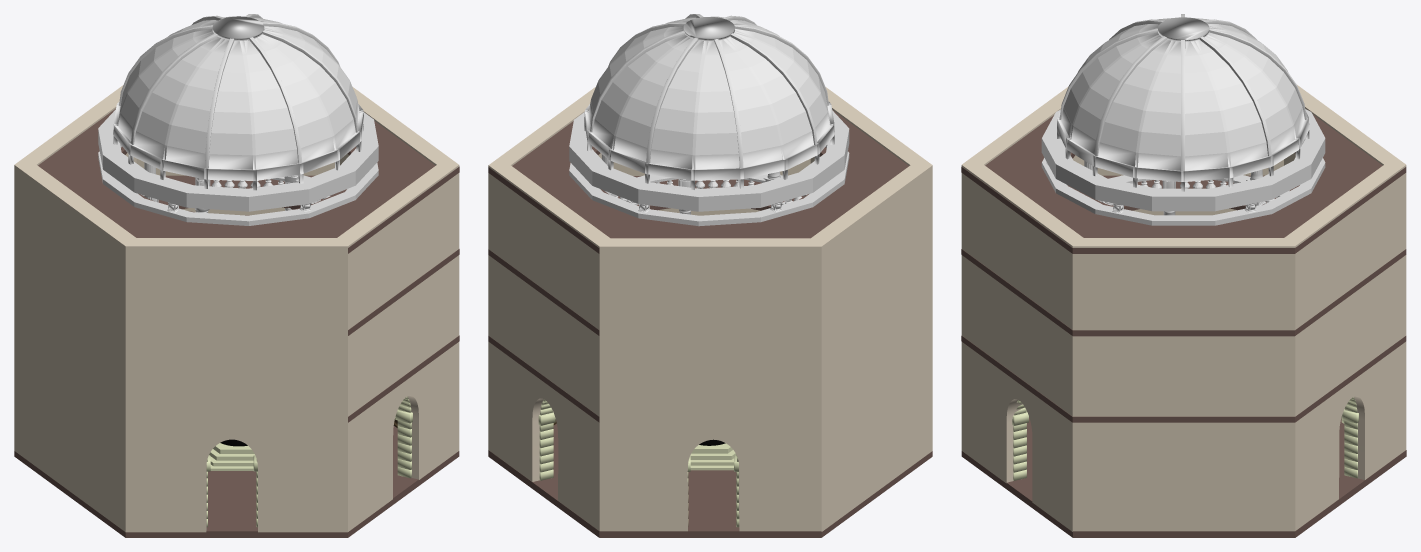
File: LOBBY.fbx
3 renders of one model, left to right at view 1: azimuth 30°, elevation 25°; view 2: azimuth 150°, elevation 25°; view 3: azimuth 270°, elevation 25°, orthographic.
Visible parts, largest first — view 1: Base_Walls, Dome, Floors, Cylinder.029, Floor_, Cylinder.030, Cylinder.031, Dome.001, Dome.021, Dome.020, Dome.023, Dome.024 (+1 smaller); view 2: Base_Walls, Dome, Floors, Cylinder.029, Floor_, Cylinder.030, Cylinder.031, Dome.001, Dome.021, Dome.018, Dome.022, Dome.025 (+1 smaller); view 3: Base_Walls, Dome, Floors, Cylinder.029, Floor_, Cylinder.030, Dome.001, Dome.023, Dome.022, Dome.020, Dome.018, Dome.019.
Boxes of the visible parts, left/top/right/bottom form: Base_Walls: left=14, top=85, right=459, bottom=532; Dome: left=113, top=16, right=363, bottom=190; Floors: left=38, top=108, right=459, bottom=422; Cylinder.029: left=98, top=109, right=378, bottom=211; Floor_: left=14, top=426, right=459, bottom=537; Cylinder.030: left=98, top=144, right=378, bottom=225; Cylinder.031: left=209, top=443, right=254, bottom=470; Dome.001: left=212, top=16, right=264, bottom=40; Dome.021: left=131, top=33, right=217, bottom=144; Dome.020: left=249, top=37, right=301, bottom=163; Dome.023: left=262, top=30, right=358, bottom=132; Dome.024: left=205, top=38, right=234, bottom=168; Base_Walls: left=488, top=87, right=932, bottom=531; Dome: left=584, top=16, right=834, bottom=189; Floors: left=488, top=110, right=908, bottom=422; Cylinder.029: left=569, top=110, right=849, bottom=211; Floor_: left=488, top=423, right=932, bottom=537; Cylinder.030: left=569, top=144, right=849, bottom=226; Cylinder.031: left=690, top=443, right=736, bottom=470; Dome.001: left=683, top=17, right=734, bottom=41; Dome.021: left=730, top=33, right=817, bottom=144; Dome.018: left=646, top=38, right=698, bottom=163; Dome.022: left=590, top=30, right=684, bottom=132; Dome.025: left=714, top=39, right=743, bottom=168; Base_Walls: left=961, top=85, right=1406, bottom=531; Dome: left=1057, top=17, right=1309, bottom=191; Floors: left=961, top=114, right=1406, bottom=422; Cylinder.029: left=1041, top=109, right=1325, bottom=211; Floor_: left=961, top=417, right=1406, bottom=537; Cylinder.030: left=1041, top=158, right=1325, bottom=225; Dome.001: left=1157, top=17, right=1209, bottom=41; Dome.023: left=1094, top=36, right=1166, bottom=156; Dome.022: left=1199, top=36, right=1271, bottom=156; Dome.020: left=1059, top=28, right=1157, bottom=119; Dome.018: left=1209, top=28, right=1306, bottom=119; Dome.019: left=1181, top=40, right=1185, bottom=170.
Size of the model in its own units: 1561 by 1917 by 1801.
